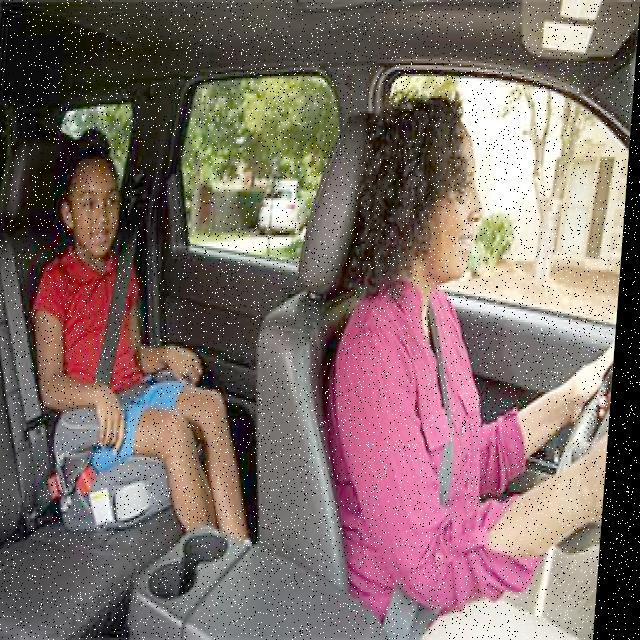seatbelt: (358, 264, 515, 640), (74, 236, 151, 402)
